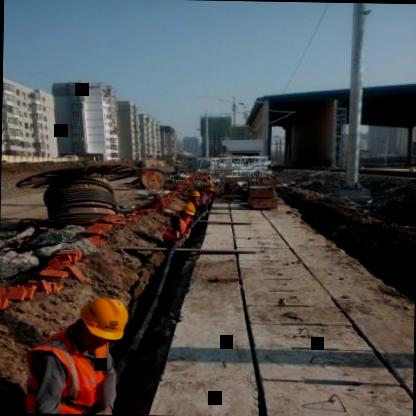helmet: (79, 292, 127, 350), (173, 202, 199, 220), (182, 186, 204, 204)
